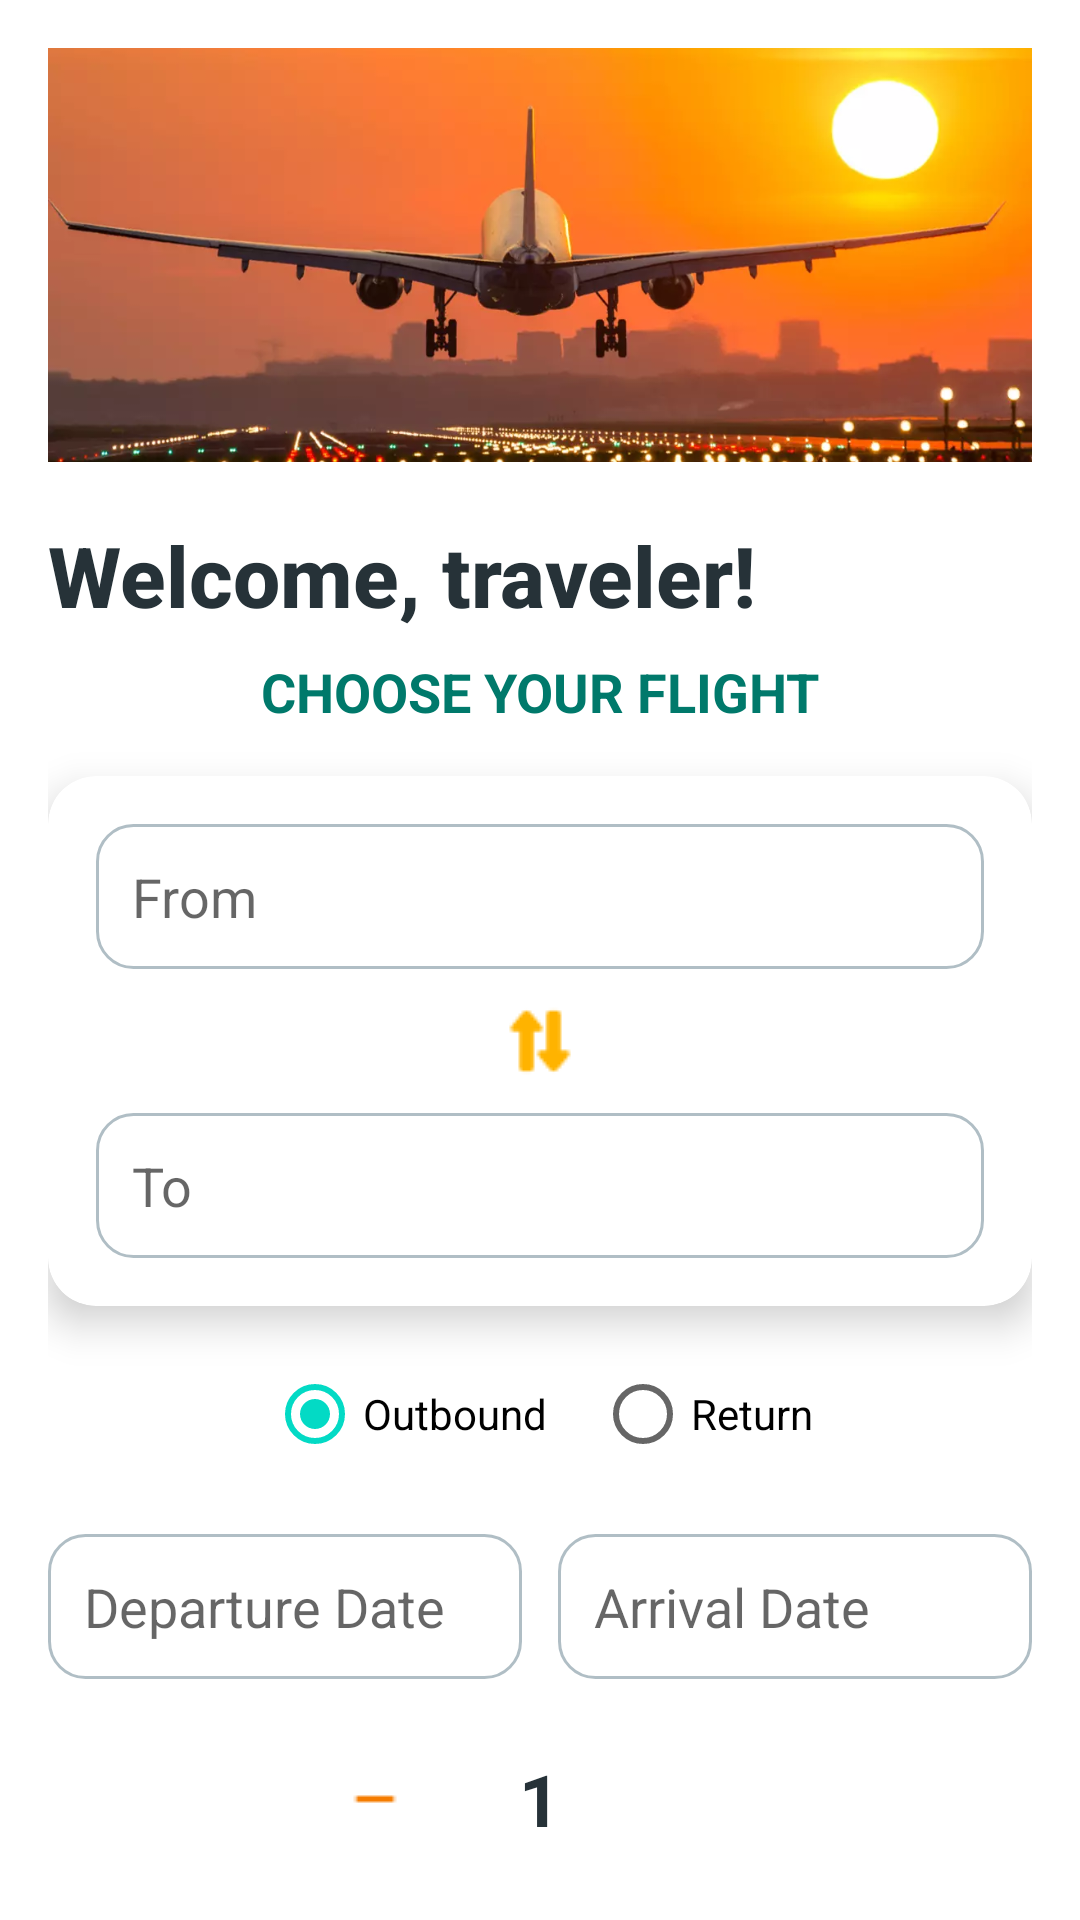

Icon click points for this 1080 × 1920 phone screenshot, format point (x, y):
Decrease: point (375, 1799)
Swap: point (540, 1041)
